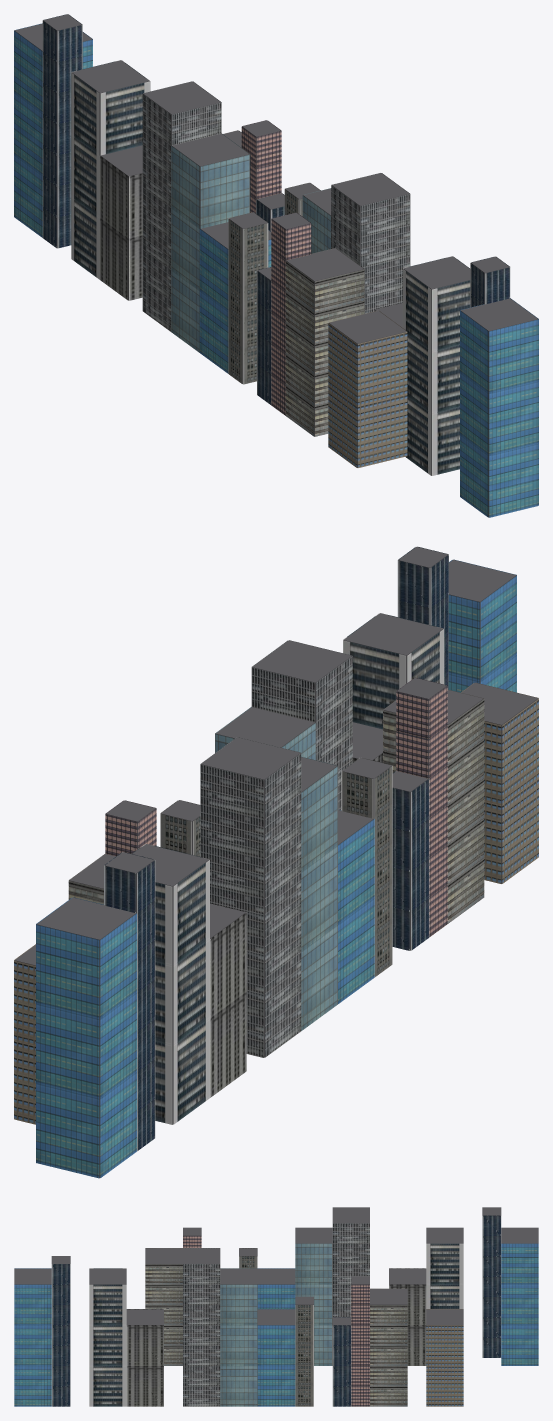
The model's file is skyline.obj.
3 views of the same model, one above another, from view 1: azimuth 30°, elevation 25°; view 2: azimuth 150°, elevation 25°; view 3: azimuth 270°, elevation 25° (orthographic). The views are drawn at different scales.
Parts seen in each view (by area): view 1: Part193, Part228, Part255, Part260, Part250, Part100, Part54, Part298, Part64, Part109, Part204, Part224 (+59 smaller); view 2: Part5, Part15, Part10, Part299, Part9, Part52, Part57, Part99, Part109, Part192, Part204, Part207 (+77 smaller); view 3: Part354, Part469, Part3, Part8, Part55, Part97, Part249, Part297, Part344, Part13, Part254, Part259 (+79 smaller).
Boxes of the visible parts, x1,y1,x2,y2 form: Part193: (357,332,407,405); Part228: (357,394,407,467); Part255: (489,381,538,455); Part260: (489,444,538,517); Part250: (489,319,538,393); Part100: (200,154,249,228); Part54: (100,81,149,155); Part298: (432,280,470,351); Part64: (99,156,128,238); Part109: (199,229,228,311); Part204: (99,218,128,300); Part224: (199,291,228,373); Part5: (36,924,99,1019); Part15: (36,1083,99,1178); Part10: (36,1004,99,1098); Part299: (343,640,406,729); Part9: (100,993,136,1098); Part52: (173,860,209,965); Part57: (173,939,209,1044); Part99: (301,766,337,871); Part109: (338,819,374,924); Part192: (502,698,538,804); Part204: (210,992,246,1097); Part207: (173,1019,209,1124); Part354: (257,1325,295,1365); Part469: (257,1366,295,1406); Part3: (501,1243,538,1284); Part8: (501,1284,538,1325); Part55: (426,1243,463,1284); Part97: (295,1243,332,1284); Part249: (14,1284,51,1325); Part297: (89,1284,126,1325); Part344: (220,1284,257,1325); Part13: (501,1325,538,1365); Part254: (14,1325,51,1365); Part259: (14,1366,51,1406).
Size of the model in its own units: 5.04 by 9.4 by 28.04.
Materials: 11 (10 with a texture image).
